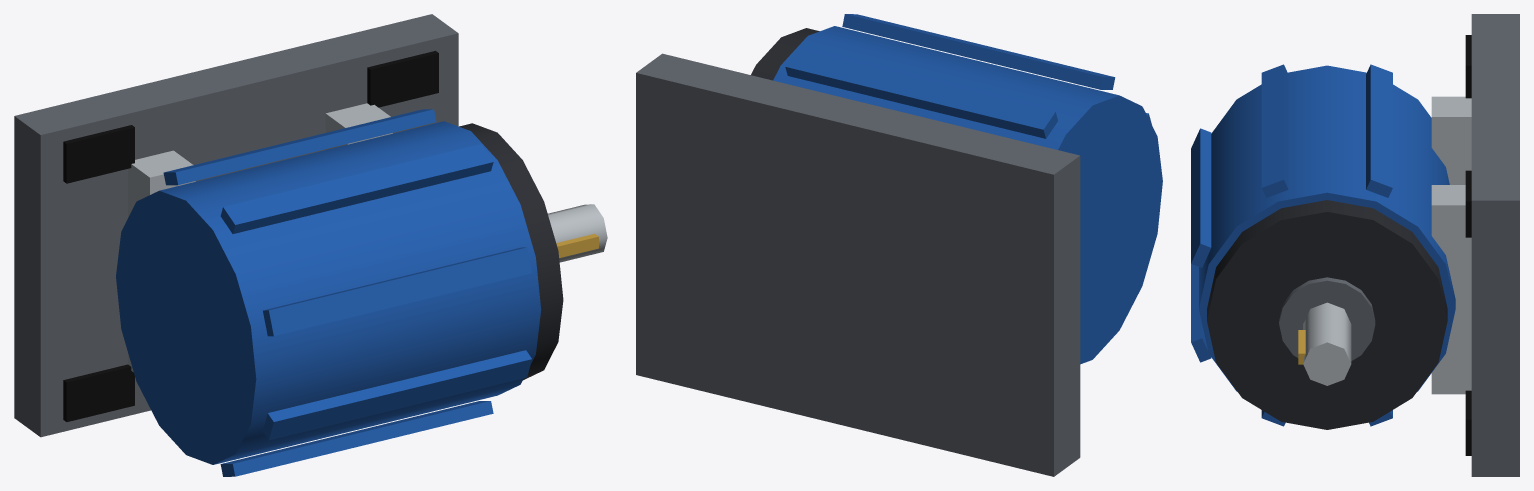
Rendered from item_m2.obj.
The picture shows the model from 3 angles, left to right: view 1: azimuth 30°, elevation 25°; view 2: azimuth 150°, elevation 25°; view 3: azimuth 270°, elevation 25°; orthographic projection. The views are drawn at different scales.
Visible parts, largest first — view 1: item_m2; view 2: item_m2; view 3: item_m2.
Part boxes in pixels (<box>): item_m2: <box>14,14,607,476</box>; item_m2: <box>636,14,1162,476</box>; item_m2: <box>1191,14,1519,476</box>.
Size of the model in its own units: 0.125 by 0.076 by 0.082.
Materials: 1 (1 with a texture image).
